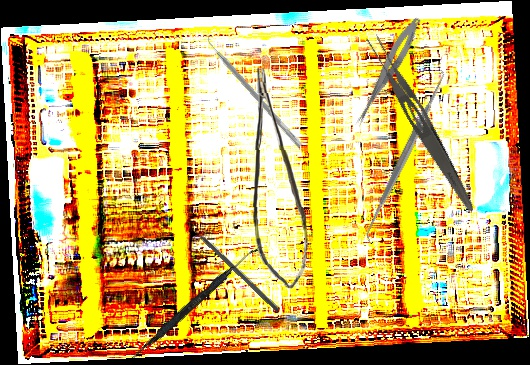Dressing Forceps: (360, 29, 484, 216)
Hook Surgical: (187, 221, 281, 313)
Micro Scissor: (249, 67, 311, 290), (351, 13, 425, 132)
Spatula Surgical: (355, 68, 455, 244), (130, 242, 259, 364), (200, 31, 308, 149)
